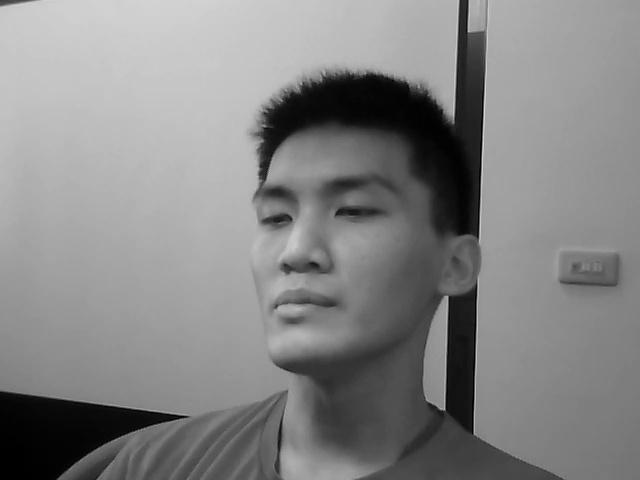eye_open: (333, 203, 382, 221), (259, 210, 293, 227)
face: (249, 125, 438, 367)
